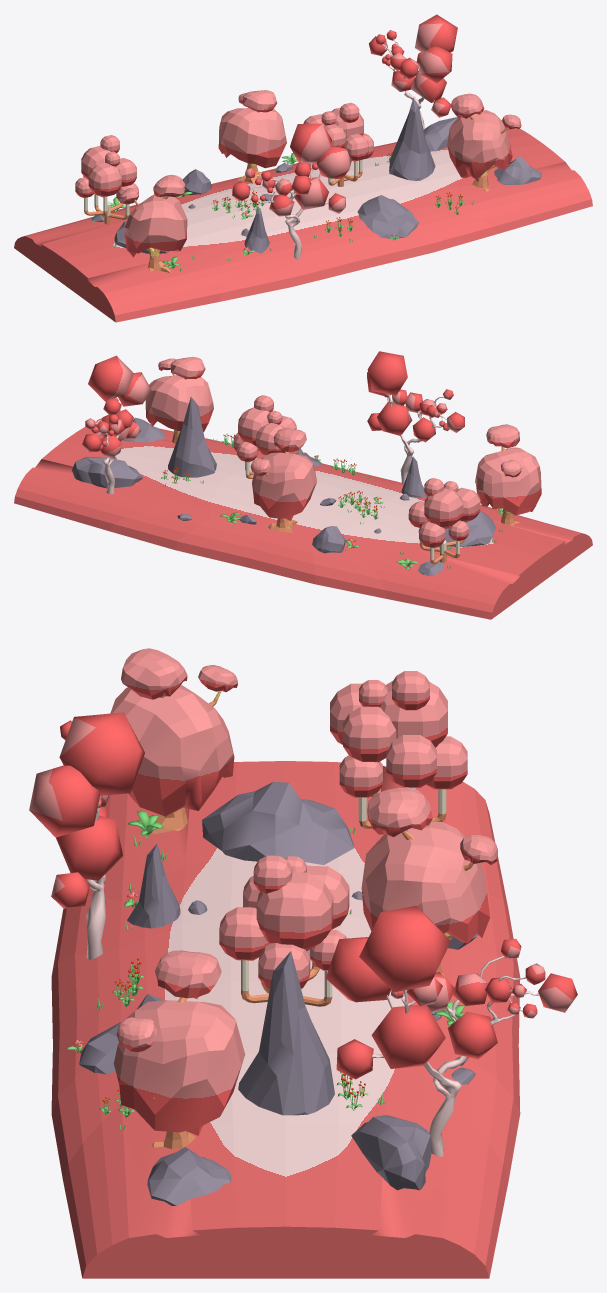
The model's file is New Spring_wall.fbx.
The picture shows the model from 3 angles, top to bottom: view 1: azimuth 30°, elevation 25°; view 2: azimuth 150°, elevation 25°; view 3: azimuth 270°, elevation 25°; orthographic projection. The views are drawn at different scales.
Parts seen in each view (by area): view 1: Tree.199; view 2: Tree.199; view 3: Tree.199.
Boxes of the visible parts, x1,y1,x2,y2 form: Tree.199: (14, 14, 592, 322); Tree.199: (14, 351, 592, 619); Tree.199: (29, 648, 577, 1278).
Size of the model in its own units: 6893 by 2020 by 3432.
